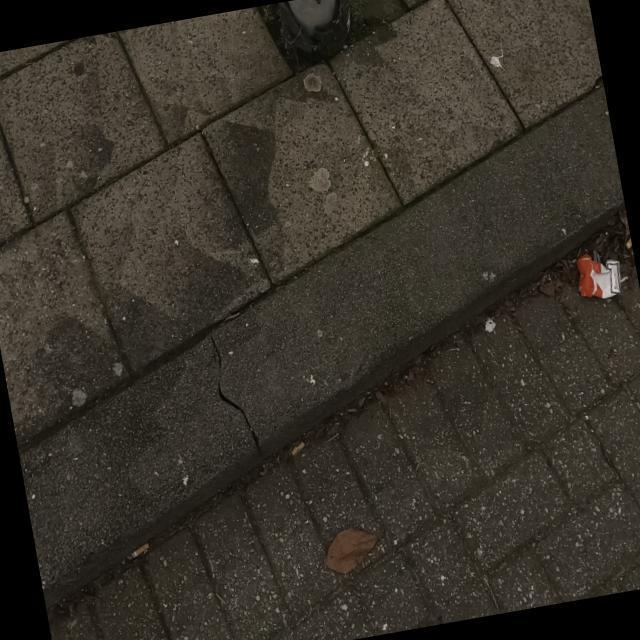Paper: (575, 253, 622, 300)
